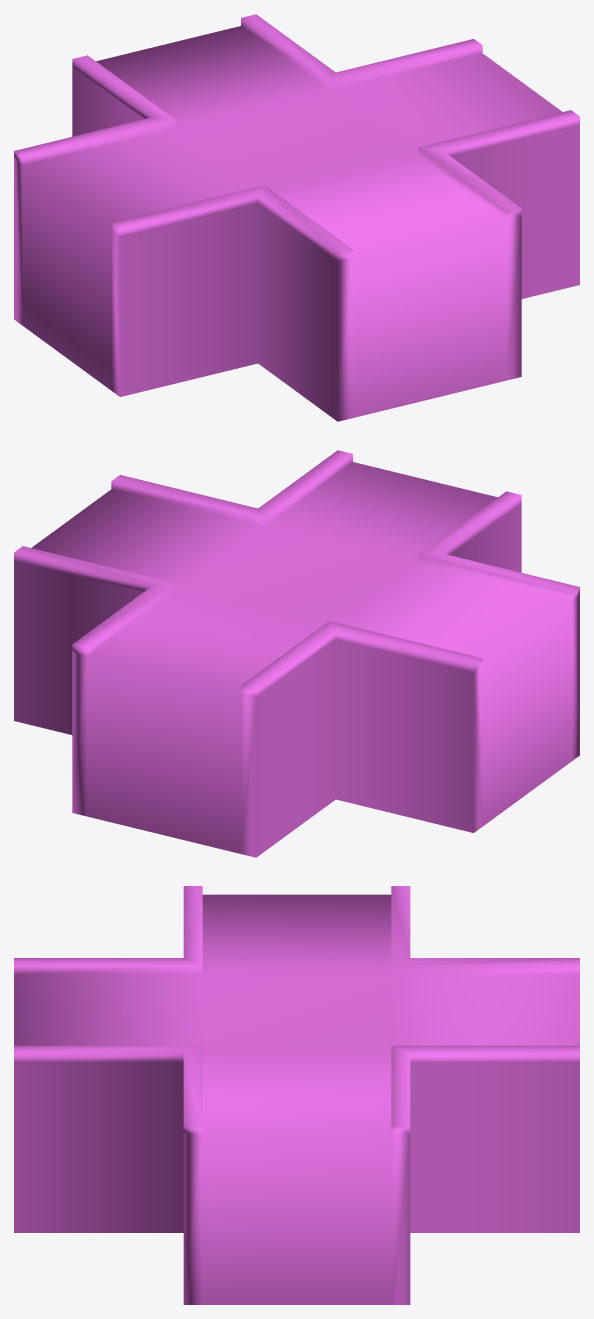
The model's file is RD_Cross.fbx.
3 renders of one model, top to bottom at view 1: azimuth 30°, elevation 25°; view 2: azimuth 150°, elevation 25°; view 3: azimuth 270°, elevation 25°, orthographic. The views are drawn at different scales.
Parts seen in each view (by area): view 1: Mesh; view 2: Mesh; view 3: Mesh.
Boxes of the visible parts, left/top/right/bottom form: Mesh: left=14, top=14, right=579, bottom=421; Mesh: left=14, top=450, right=579, bottom=857; Mesh: left=14, top=886, right=579, bottom=1304.
Size of the model in its own units: 1200 by 420 by 1200.
